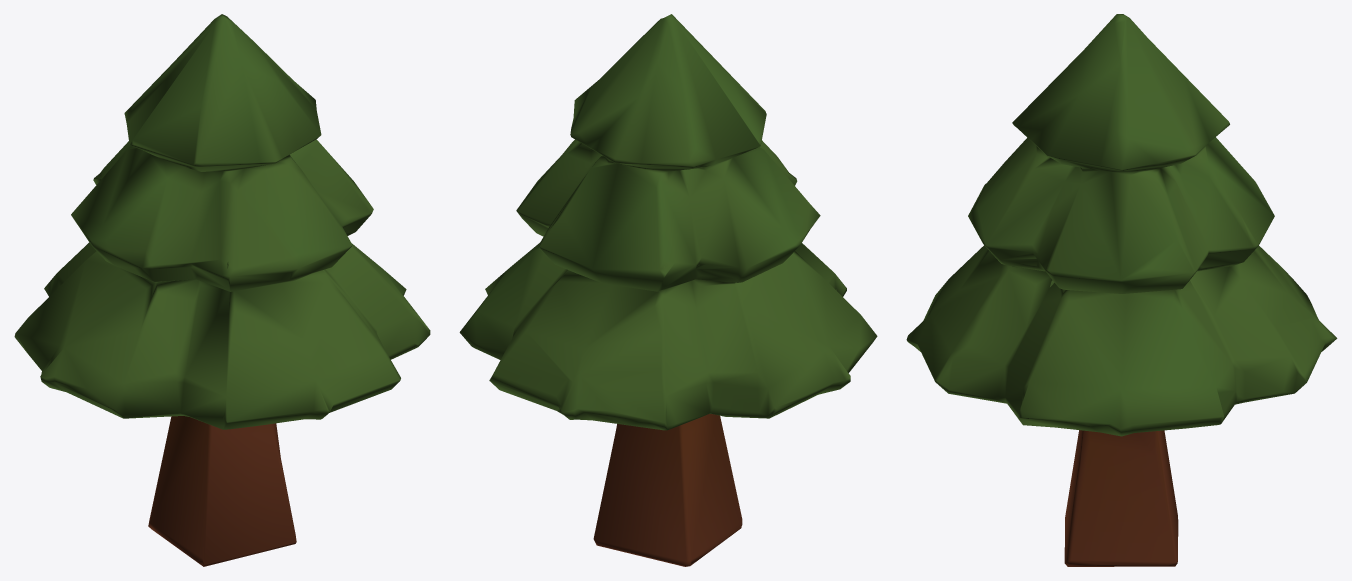
File: gen3d-beech-tree-lod1.glb
The picture shows the model from 3 angles, left to right: view 1: azimuth 30°, elevation 25°; view 2: azimuth 150°, elevation 25°; view 3: azimuth 270°, elevation 25°; orthographic projection.
Visible parts, largest first — view 1: part_0; view 2: part_0; view 3: part_0.
Part boxes in pixels (bbox=[...]): part_0: bbox=[14, 14, 430, 566]; part_0: bbox=[459, 14, 877, 566]; part_0: bbox=[906, 14, 1337, 566].
Bounding box in the file's own units: 0.7337 × 0.9987 × 0.7363.
